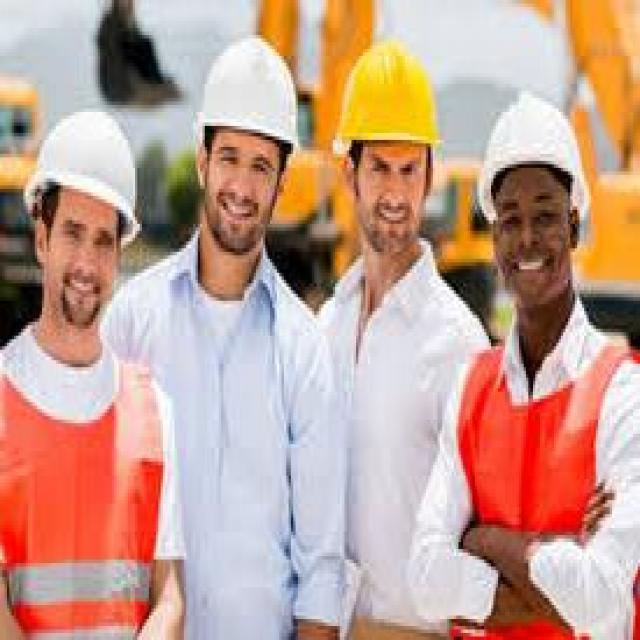reflective_jacket: (458, 328, 635, 636), (1, 328, 167, 639)
safety_helmet: (18, 105, 142, 231), (476, 87, 591, 206), (335, 34, 444, 157), (192, 34, 300, 154)
